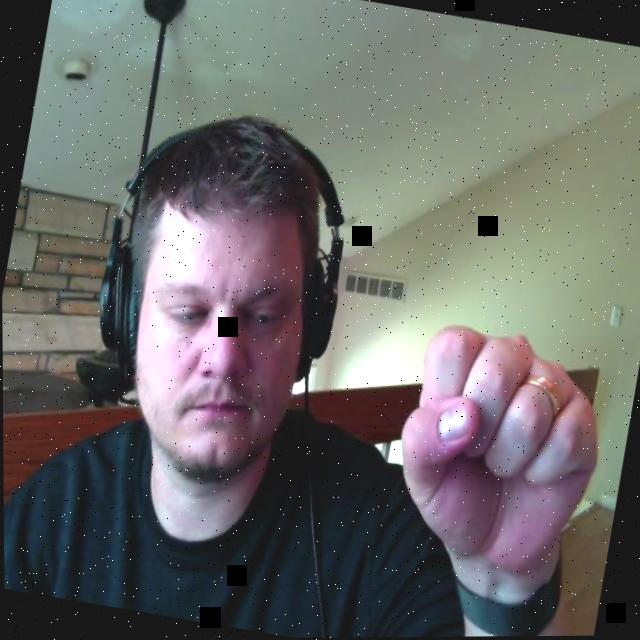Rock: (374, 310, 619, 584)
